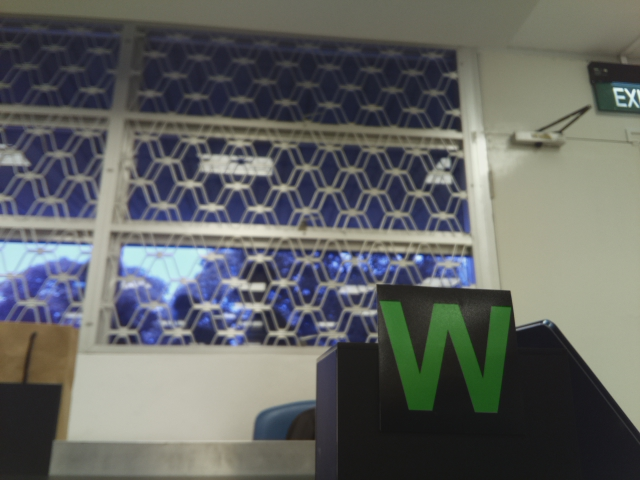w: (379, 293, 520, 417)
